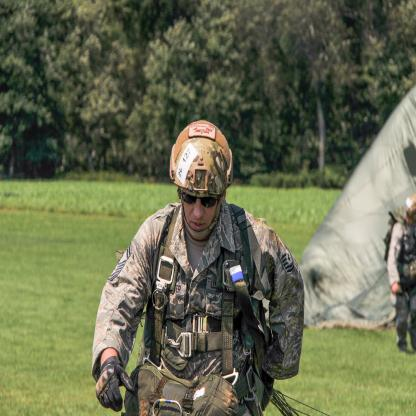Helmet: (172, 122, 229, 240), (406, 192, 416, 223)
